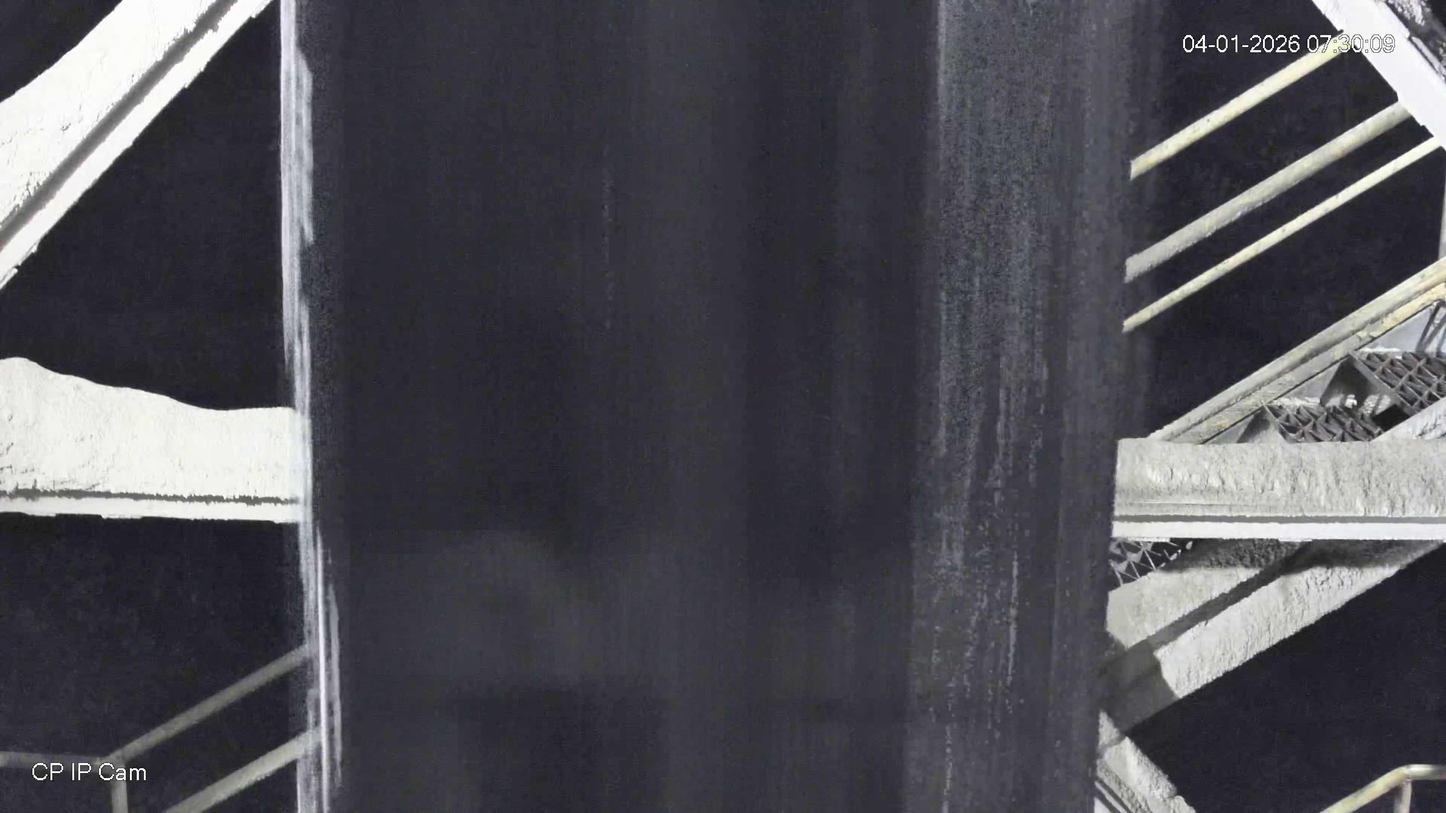belt_roi: (282, 0, 1137, 813)
